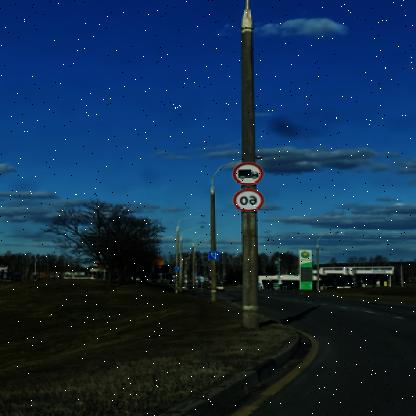speedlimit: (235, 189, 266, 211)
